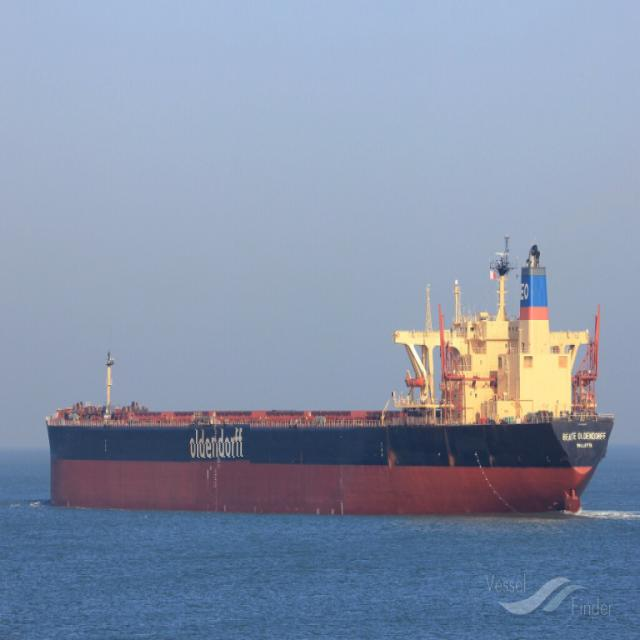OCR: (176, 424, 250, 471), (554, 423, 608, 459)
